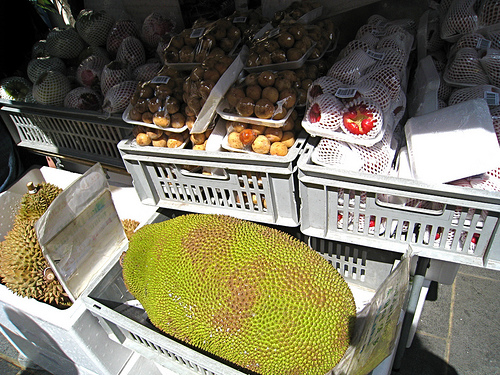jackfruit: (120, 213, 359, 374)
